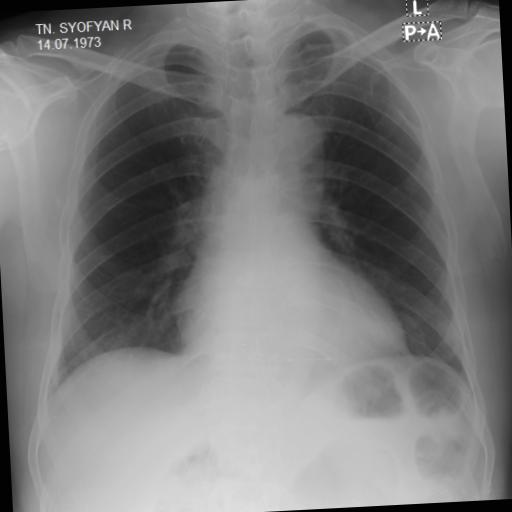kardiomegali: (9, 0, 482, 426)
